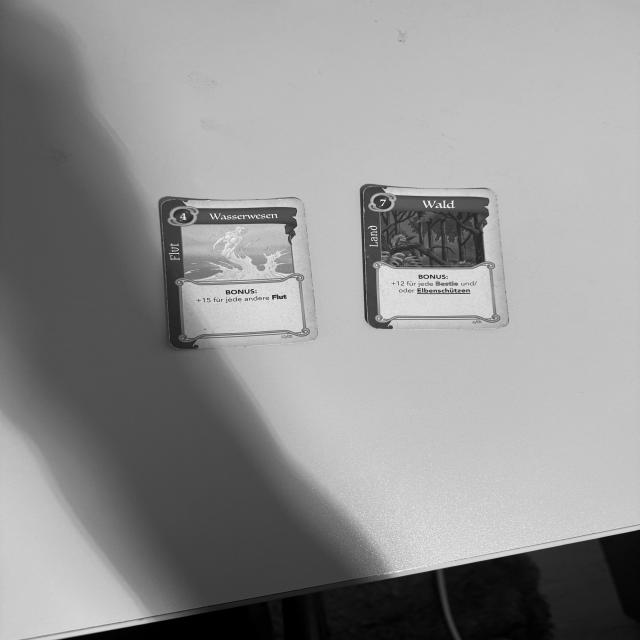Forest: (363, 185, 516, 332)
Water Elemental: (162, 196, 319, 348)
